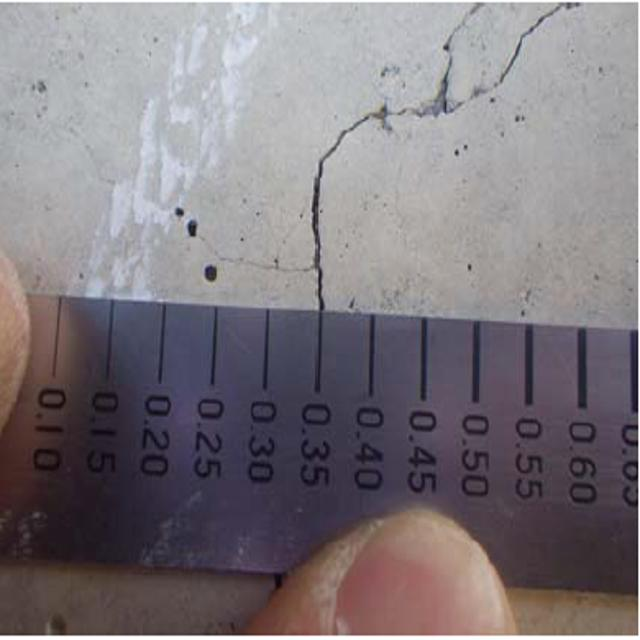crack: (278, 0, 582, 310)
